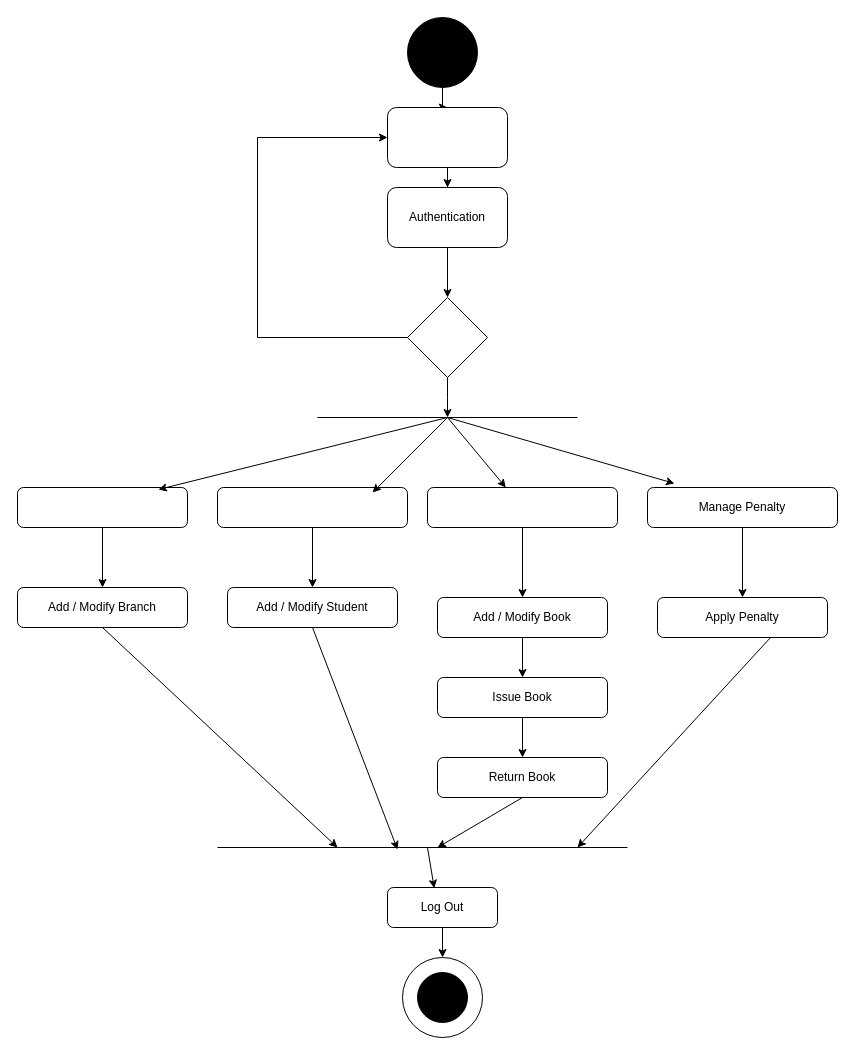
Some shapes in this 855 by 1055 pixel diagram are drawn without their labels. Here are the shapes that lost their labels. From the top down, the centre of each, then its label:
At point 447,137: "Login".
At point 102,507: "Manage Branch".
At point 312,507: "Manage Student".
At point 522,507: "Manage Book".
